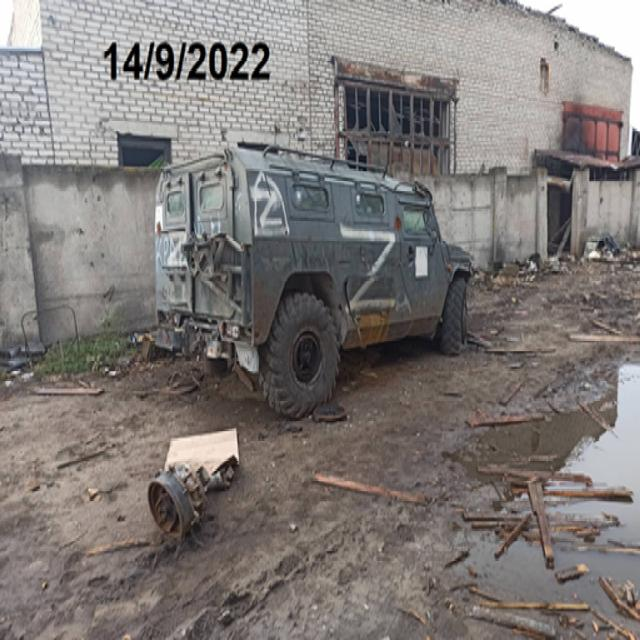CAR: (152, 144, 470, 413)
